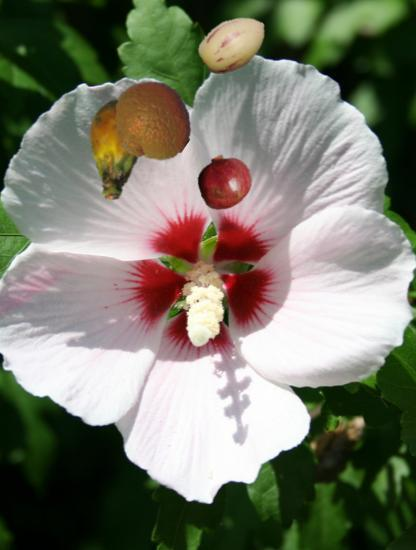Cactus: (64, 100, 165, 201)
Mandarine: (111, 80, 194, 163)
Pepino: (197, 8, 271, 82)
Pomegranate: (197, 154, 253, 210)
